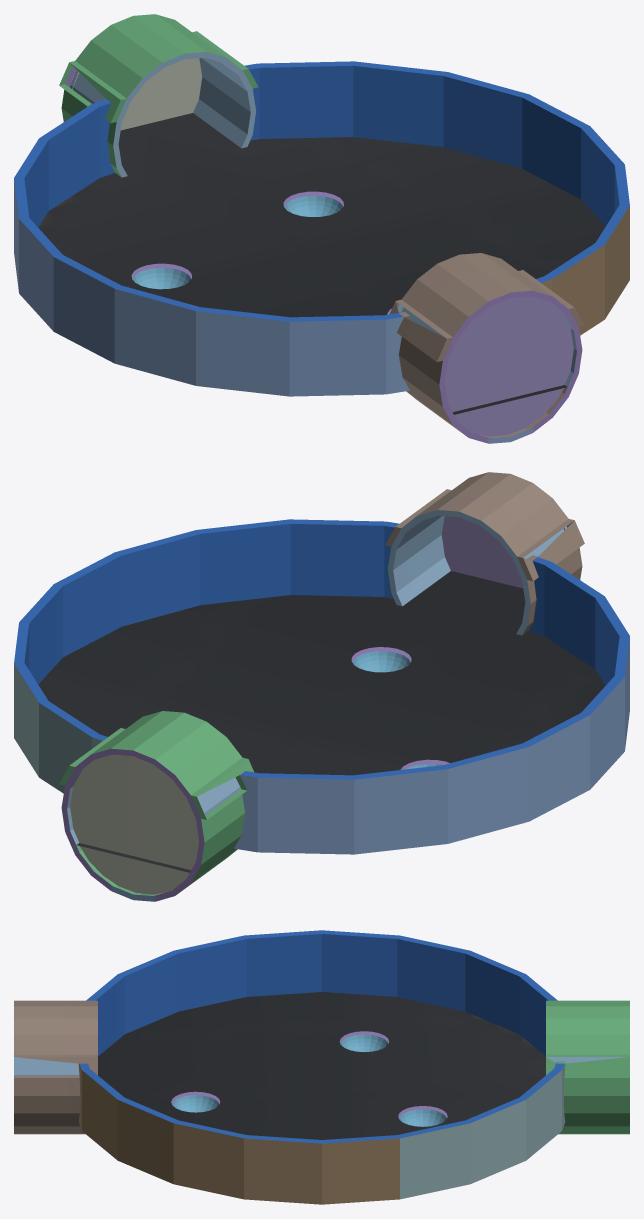
File: arena2.dae
3 views of the same model, one above another, from view 1: azimuth 30°, elevation 25°; view 2: azimuth 150°, elevation 25°; view 3: azimuth 270°, elevation 25° (orthographic). The views are drawn at different scales.
Visible parts, largest first — view 1: arena3, pDisc1, pDisc2; view 2: arena3, pDisc2, pDisc1; view 3: arena3.
Part boxes in pixels (x1,y1,x2,y2): arena3: (14, 14, 629, 443); pDisc1: (445, 296, 573, 436); pDisc2: (72, 58, 202, 130); arena3: (14, 472, 629, 901); pDisc2: (70, 754, 198, 894); pDisc1: (441, 516, 565, 588); arena3: (14, 930, 629, 1204).
Bounding box in the file's own units: 30 × 8 × 36.6.
